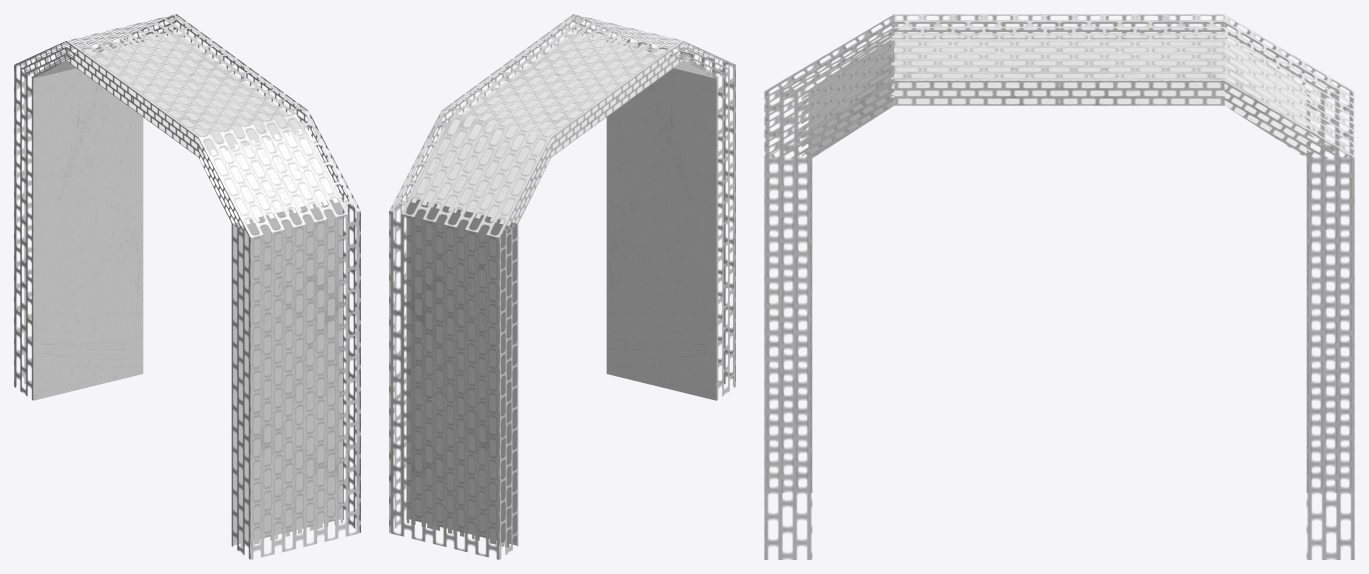
The model's file is cabletraybow.glb.
The picture shows the model from 3 angles, left to right: view 1: azimuth 30°, elevation 25°; view 2: azimuth 150°, elevation 25°; view 3: azimuth 270°, elevation 25°; orthographic projection. The views are drawn at different scales.
Visible parts, largest first — view 1: CableTrayBow; view 2: CableTrayBow; view 3: CableTrayBow.
Boxes of the visible parts, x1,y1,x2,y2 form: CableTrayBow: (14,14,360,559); CableTrayBow: (389,14,735,559); CableTrayBow: (764,14,1354,559).
Bounding box in the file's own units: 0.9309 × 3.1 × 3.46.
Materials: 3 (3 with a texture image).
